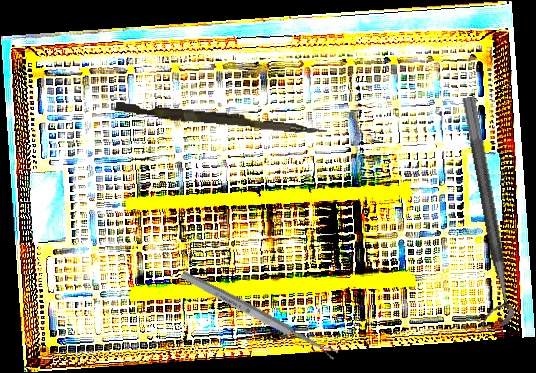Fixation Ring: (442, 95, 517, 330)
Pusher: (114, 101, 329, 136)
Surgical Spoon: (179, 268, 339, 362)
